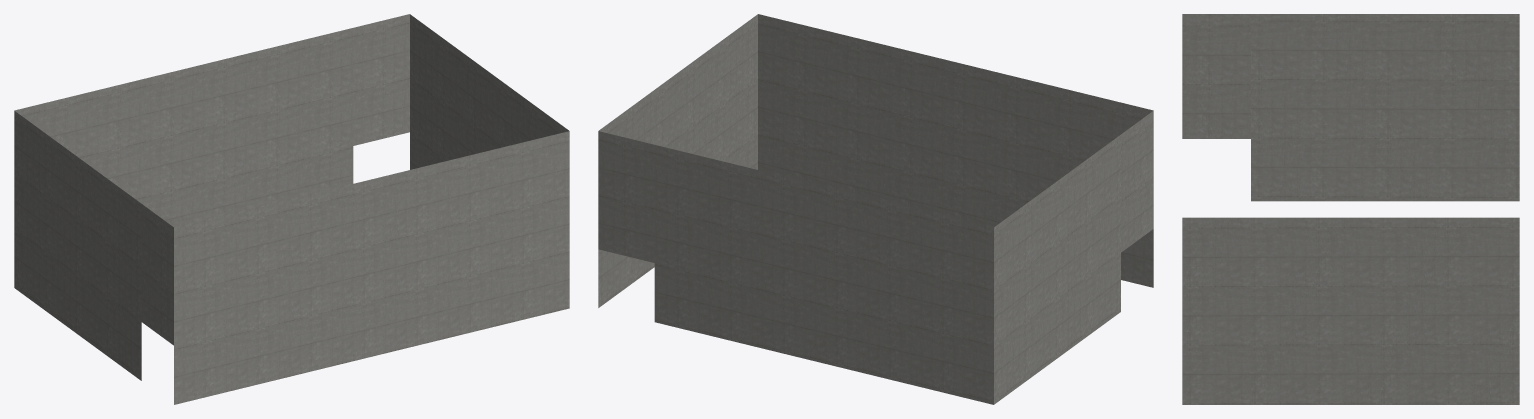
The model's file is tutorialHouse_outerWall.FBX.
The picture shows the model from 3 angles, left to right: view 1: azimuth 30°, elevation 25°; view 2: azimuth 150°, elevation 25°; view 3: azimuth 270°, elevation 25°; orthographic projection. The views are drawn at different scales.
Parts seen in each view (by area): view 1: outerWall; view 2: outerWall; view 3: outerWall.
Boxes of the visible parts, x1,y1,x2,y2 form: outerWall: (14, 14, 569, 404); outerWall: (598, 14, 1153, 404); outerWall: (1182, 14, 1519, 404).
Size of the model in its own units: 21 by 9 by 14.7.
Materials: 1 (1 with a texture image).
